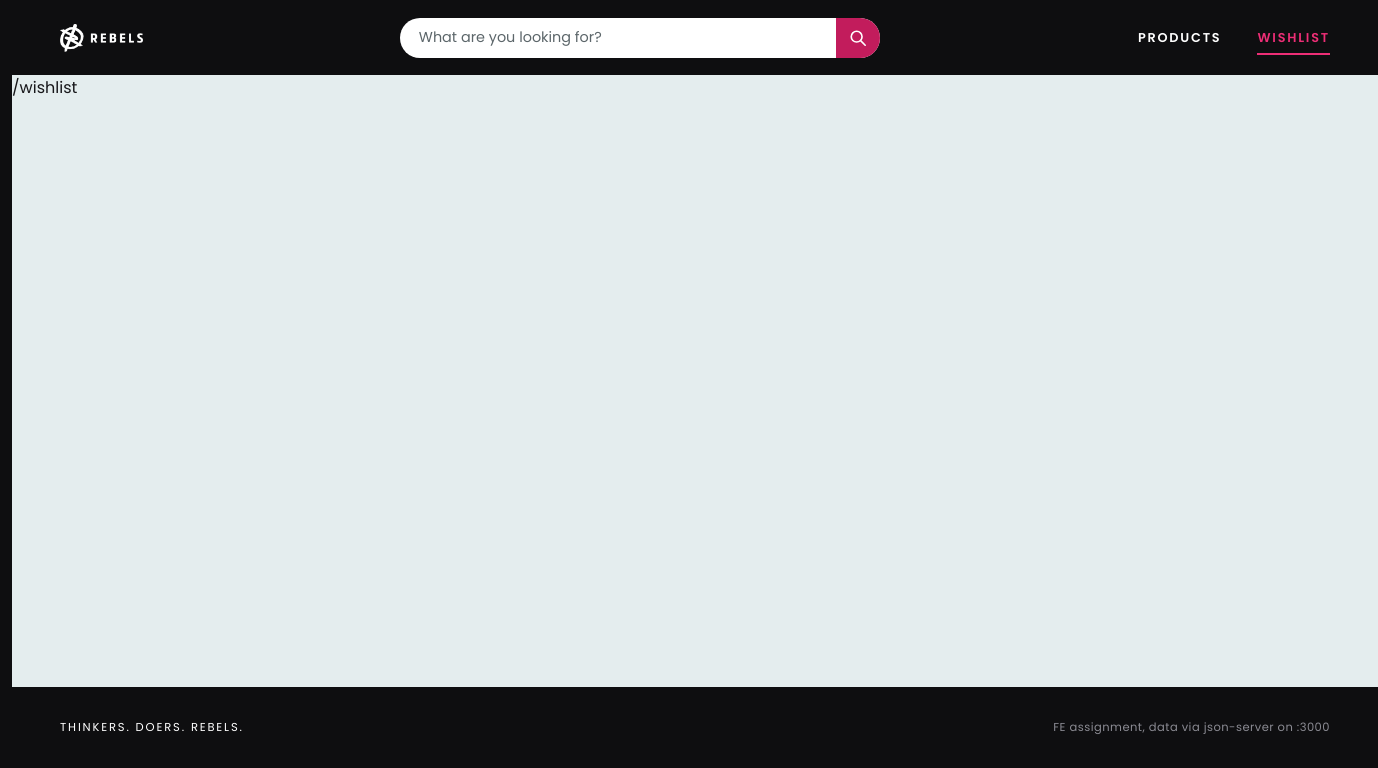
Test case: HeaderSearch › submitting searches the listing for the typed text
Type "mouse" into the dropdown named "Search products".
click(618, 38); type("mouse")  # box [400,18,836,58]
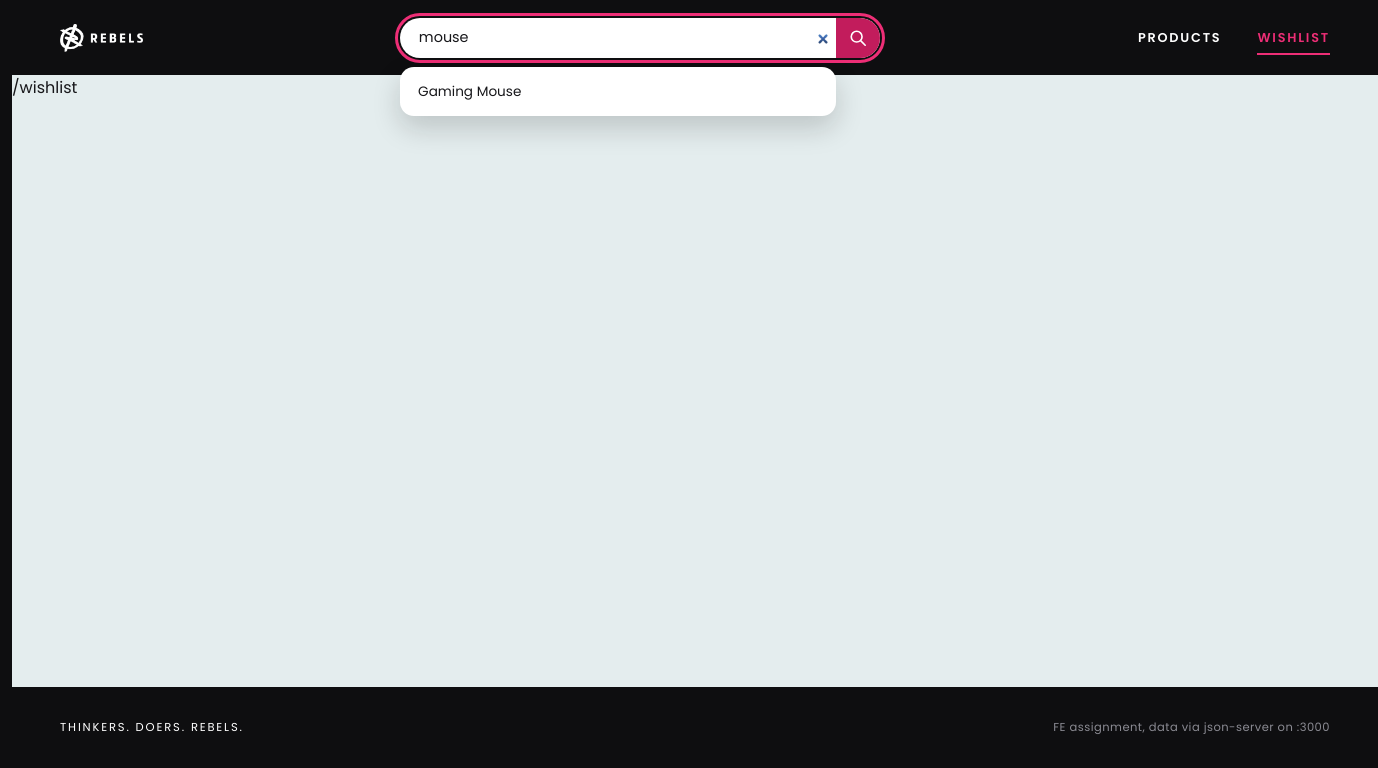
Click the button named "Search".
click(858, 38)  # box [836,18,880,58]
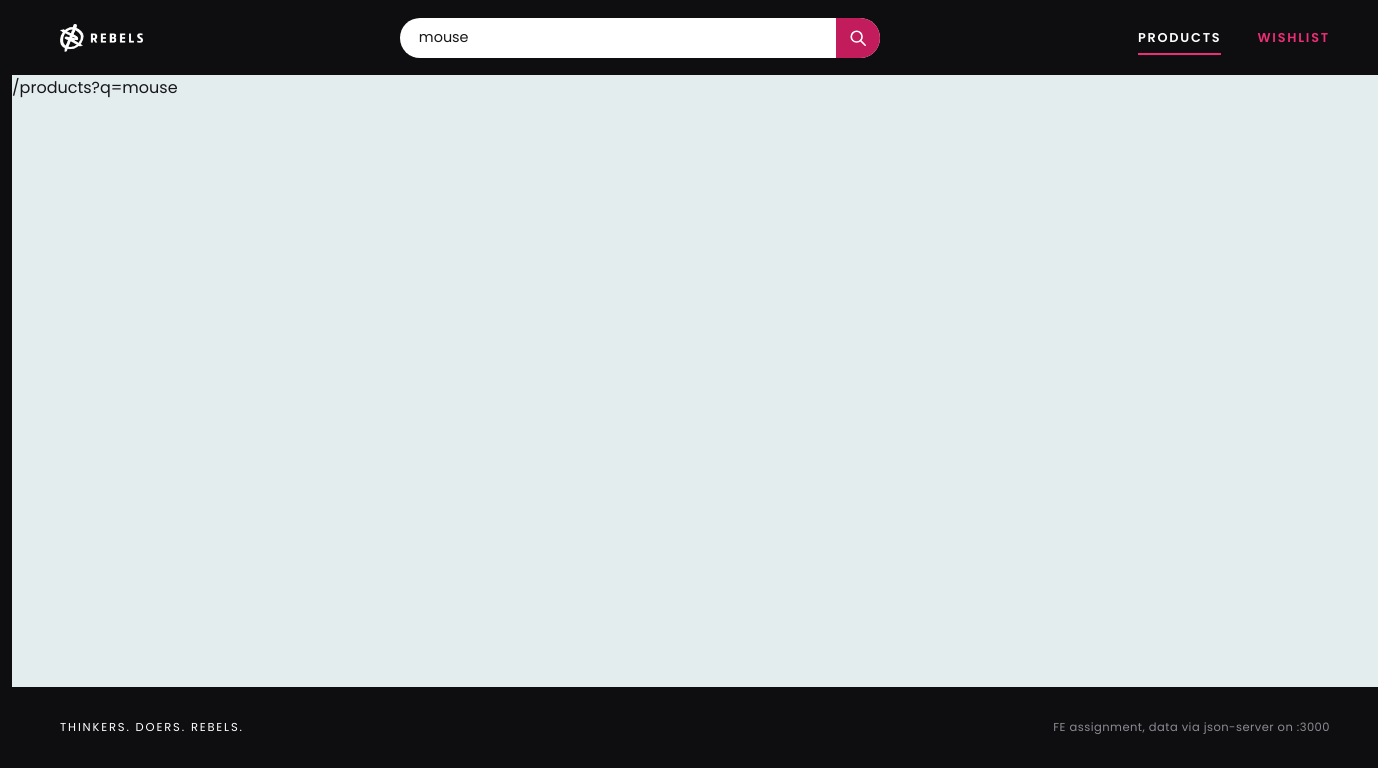
Expected: the text with test id "location" reads "/products?q=mouse", [12,76,178,99]
